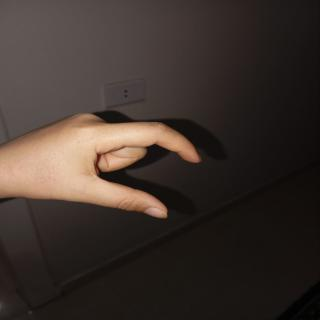DELL: (1, 100, 204, 227)
